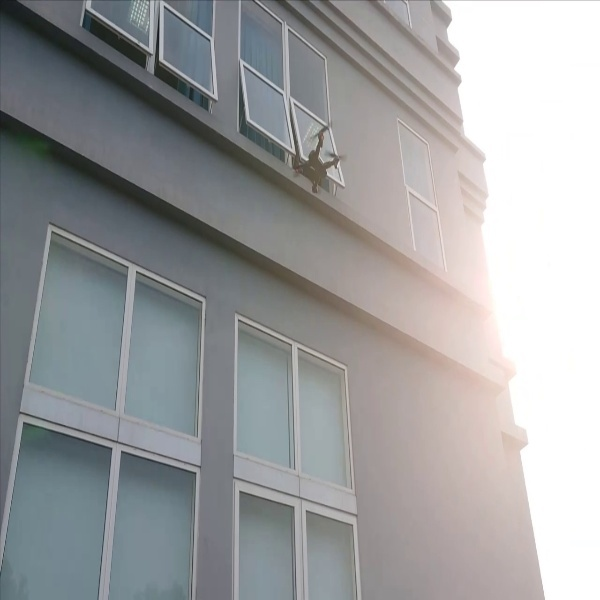drone: (283, 118, 356, 196)
